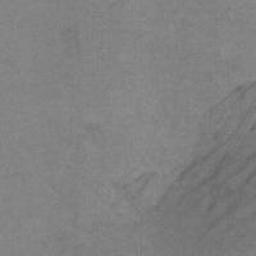Water spot: (158, 82, 256, 245), (123, 172, 157, 205)
